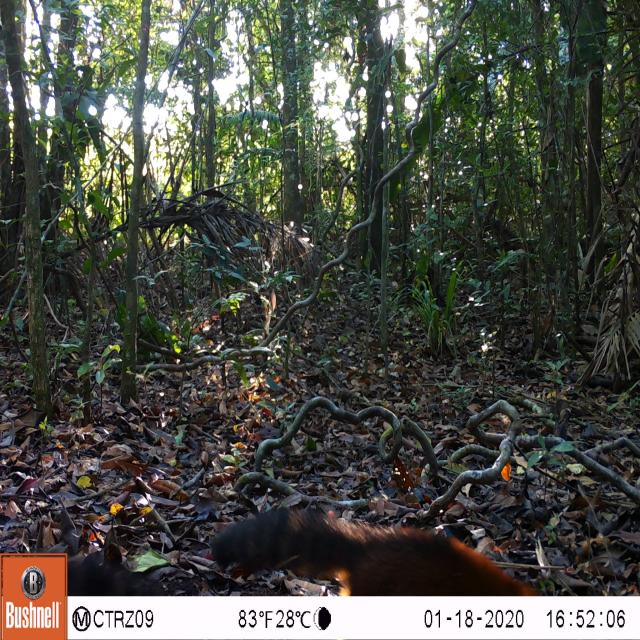South American Coati: (210, 498, 537, 598)
